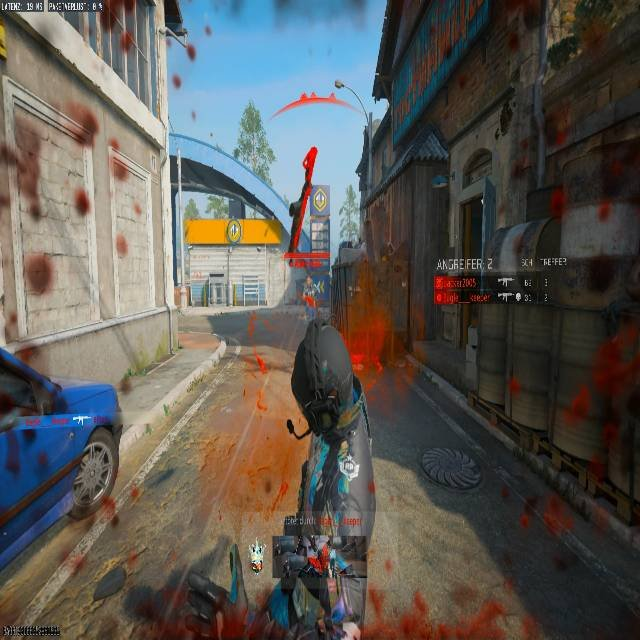head: (301, 275, 316, 294), (306, 274, 313, 282)
player: (288, 309, 369, 554), (295, 279, 325, 331), (302, 274, 319, 320)
